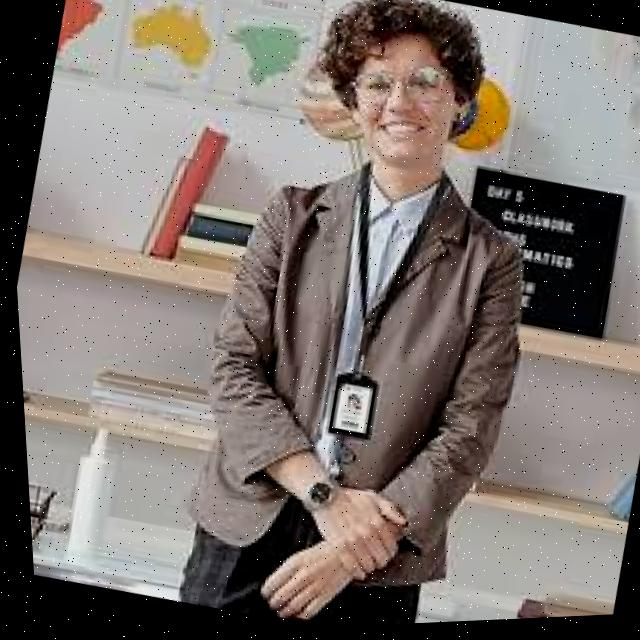id_card: (290, 156, 442, 461)
